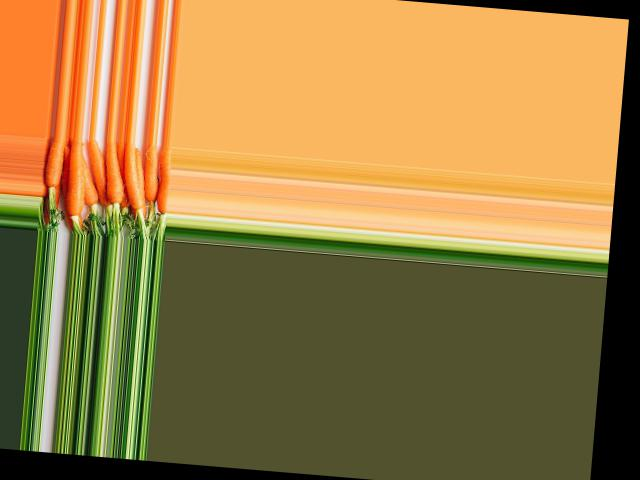carrot: (41, 134, 65, 197)
